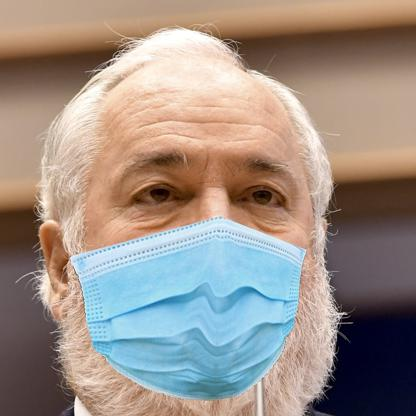mask: (73, 216, 303, 398)
